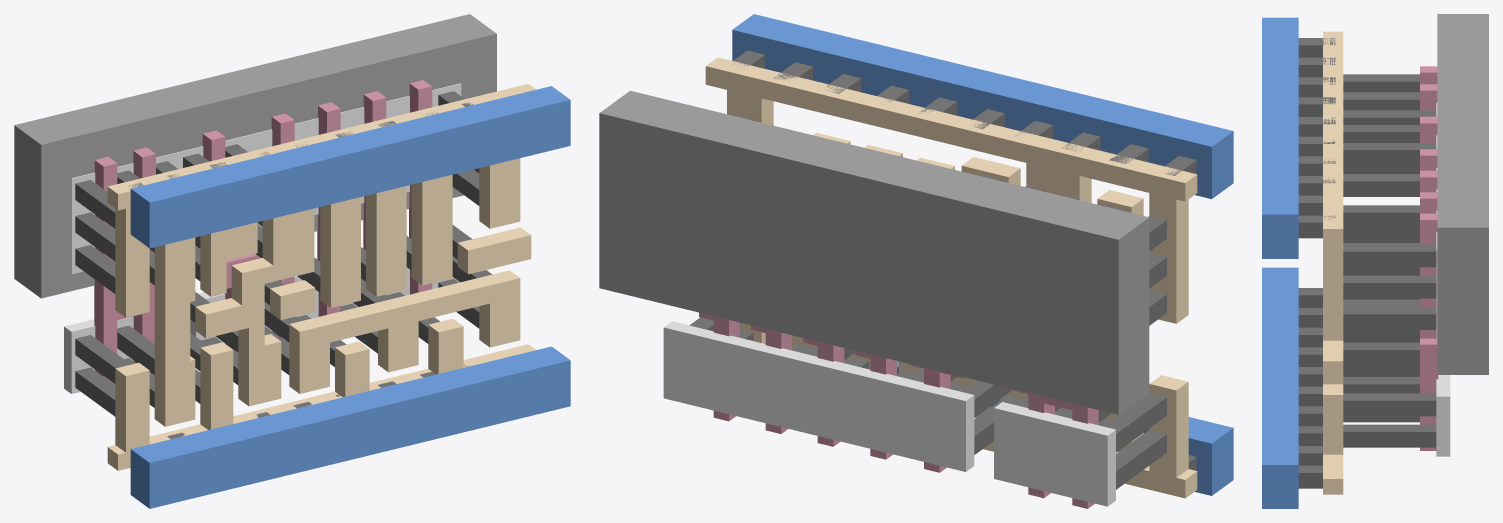
File: sky130_fd_sc_hd__o41a_2.gds.gltf
3 renders of one model, left to right at view 1: azimuth 30°, elevation 25°; view 2: azimuth 150°, elevation 25°; view 3: azimuth 270°, elevation 25°, orthographic. The views are drawn at different scales.
Visible parts, largest first — view 1: sky130_fd_sc_hd__o41a_2_li1, sky130_fd_sc_hd__o41a_2_met1, sky130_fd_sc_hd__o41a_2_nwell, sky130_fd_sc_hd__o41a_2_licon, sky130_fd_sc_hd__o41a_2_poly, sky130_fd_sc_hd__o41a_2_diff, sky130_fd_sc_hd__o41a_2_mcon; view 2: sky130_fd_sc_hd__o41a_2_nwell, sky130_fd_sc_hd__o41a_2_diff, sky130_fd_sc_hd__o41a_2_li1, sky130_fd_sc_hd__o41a_2_met1, sky130_fd_sc_hd__o41a_2_licon, sky130_fd_sc_hd__o41a_2_poly, sky130_fd_sc_hd__o41a_2_mcon; view 3: sky130_fd_sc_hd__o41a_2_licon, sky130_fd_sc_hd__o41a_2_nwell, sky130_fd_sc_hd__o41a_2_met1, sky130_fd_sc_hd__o41a_2_mcon, sky130_fd_sc_hd__o41a_2_li1, sky130_fd_sc_hd__o41a_2_poly, sky130_fd_sc_hd__o41a_2_diff.
Part boxes in pixels (bbox=[...]): sky130_fd_sc_hd__o41a_2_li1: bbox=[107, 84, 535, 470]; sky130_fd_sc_hd__o41a_2_met1: bbox=[130, 86, 570, 508]; sky130_fd_sc_hd__o41a_2_nwell: bbox=[14, 14, 496, 298]; sky130_fd_sc_hd__o41a_2_licon: bbox=[75, 91, 492, 416]; sky130_fd_sc_hd__o41a_2_poly: bbox=[94, 80, 432, 384]; sky130_fd_sc_hd__o41a_2_diff: bbox=[64, 83, 461, 393]; sky130_fd_sc_hd__o41a_2_mcon: bbox=[128, 102, 473, 439]; sky130_fd_sc_hd__o41a_2_nwell: bbox=[599, 90, 1149, 414]; sky130_fd_sc_hd__o41a_2_diff: bbox=[663, 321, 1115, 506]; sky130_fd_sc_hd__o41a_2_li1: bbox=[705, 57, 1197, 498]; sky130_fd_sc_hd__o41a_2_met1: bbox=[732, 14, 1233, 495]; sky130_fd_sc_hd__o41a_2_licon: bbox=[689, 115, 1166, 489]; sky130_fd_sc_hd__o41a_2_poly: bbox=[699, 312, 1098, 508]; sky130_fd_sc_hd__o41a_2_mcon: bbox=[733, 50, 1196, 470]; sky130_fd_sc_hd__o41a_2_licon: bbox=[1343, 74, 1436, 447]; sky130_fd_sc_hd__o41a_2_nwell: bbox=[1437, 14, 1488, 374]; sky130_fd_sc_hd__o41a_2_met1: bbox=[1262, 17, 1298, 508]; sky130_fd_sc_hd__o41a_2_mcon: bbox=[1298, 38, 1335, 488]; sky130_fd_sc_hd__o41a_2_li1: bbox=[1323, 31, 1343, 494]; sky130_fd_sc_hd__o41a_2_poly: bbox=[1420, 66, 1438, 450]; sky130_fd_sc_hd__o41a_2_diff: bbox=[1436, 102, 1450, 456].
Size of the model in its own units: 4.98 by 3.2 by 2.24.
